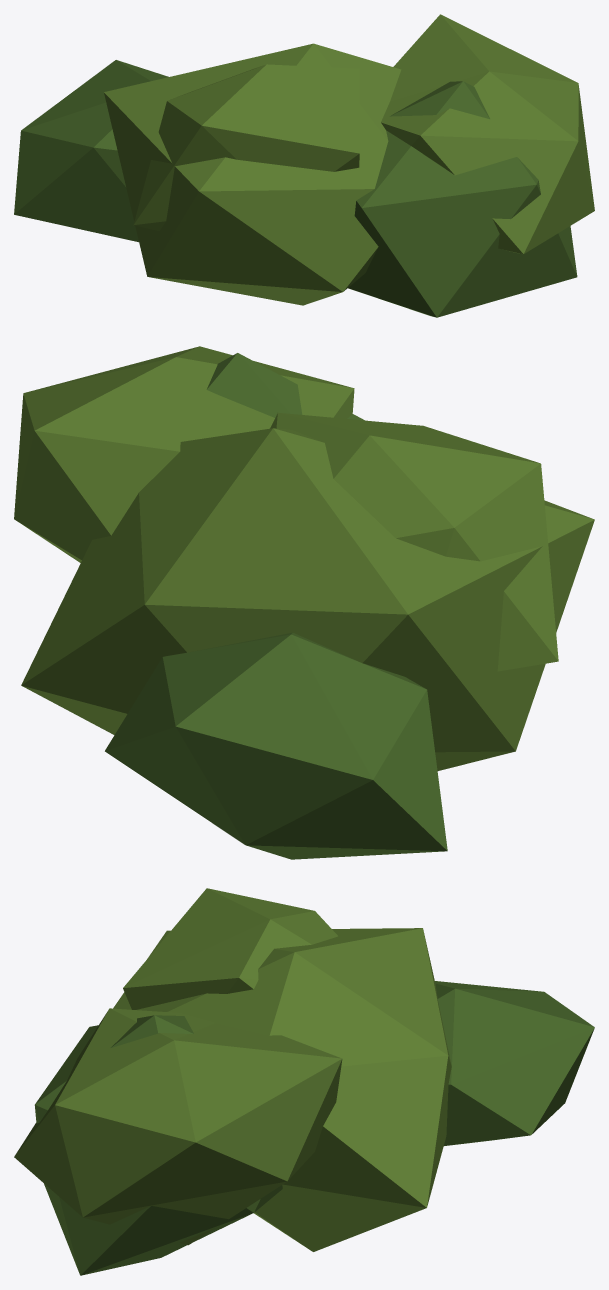
The model's file is bush.glb.
3 renders of one model, top to bottom at view 1: azimuth 30°, elevation 25°; view 2: azimuth 150°, elevation 25°; view 3: azimuth 270°, elevation 25°, orthographic. The views are drawn at different scales.
Visible parts, largest first — view 1: Bush; view 2: Bush; view 3: Bush.
Boxes of the visible parts, <box> form: Bush: <box>14,14,594,317</box>; Bush: <box>14,346,594,859</box>; Bush: <box>14,888,594,1275</box>.
Size of the model in its own units: 1.97 by 1.17 by 2.04.
